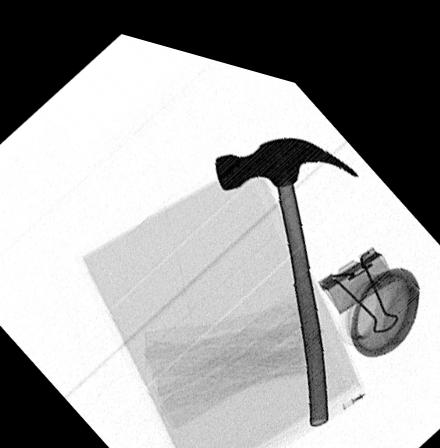Hammer: (213, 120, 360, 411)
